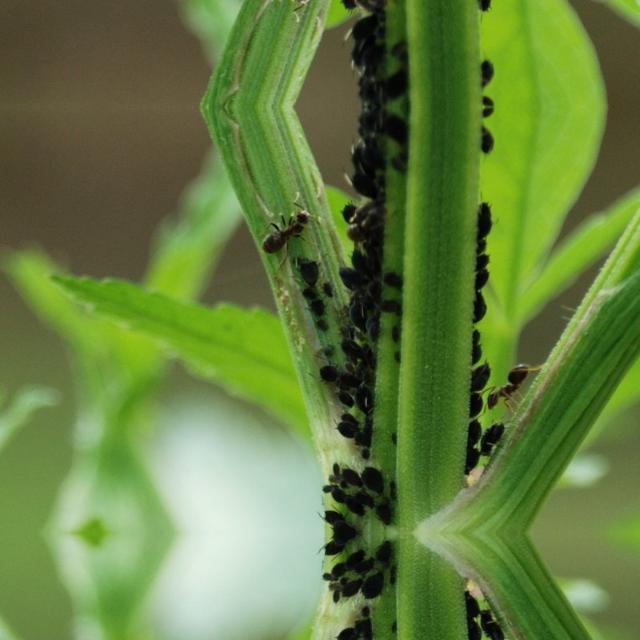Lasius: (258, 185, 322, 263), (482, 349, 532, 421), (257, 0, 320, 26)
